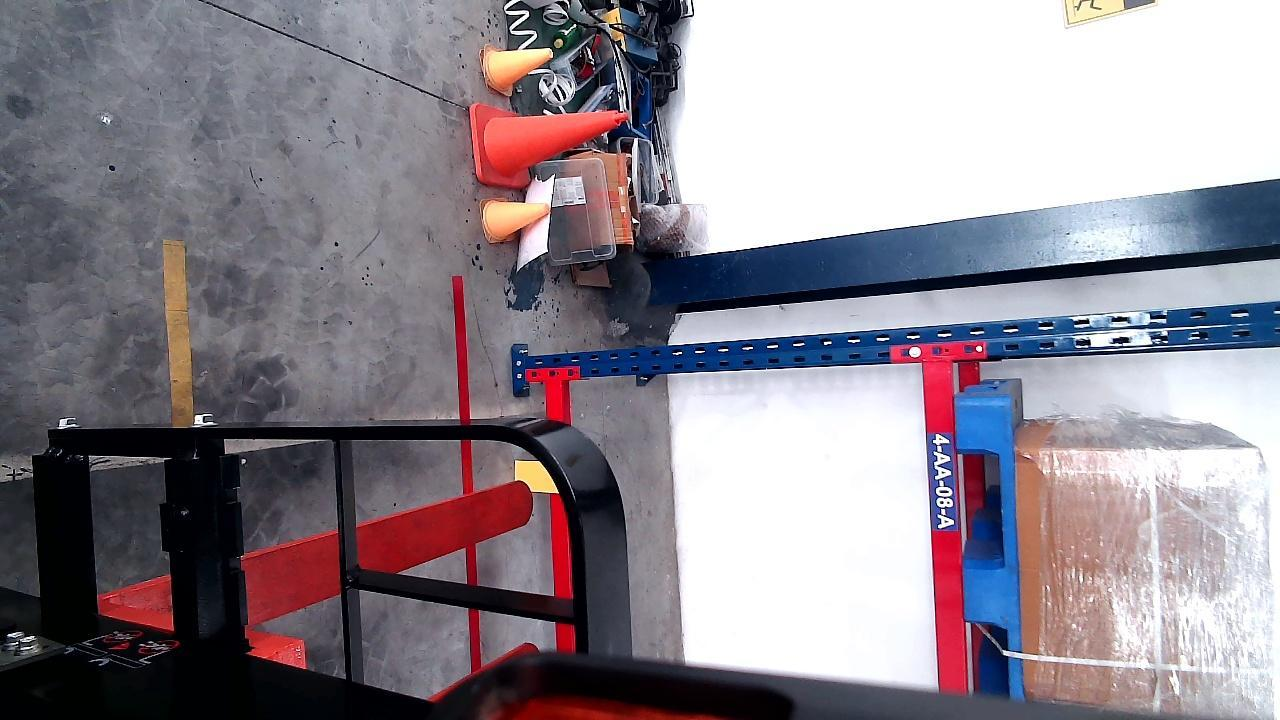red_line: (453, 272, 482, 672)
yellow_line: (164, 232, 195, 423)
